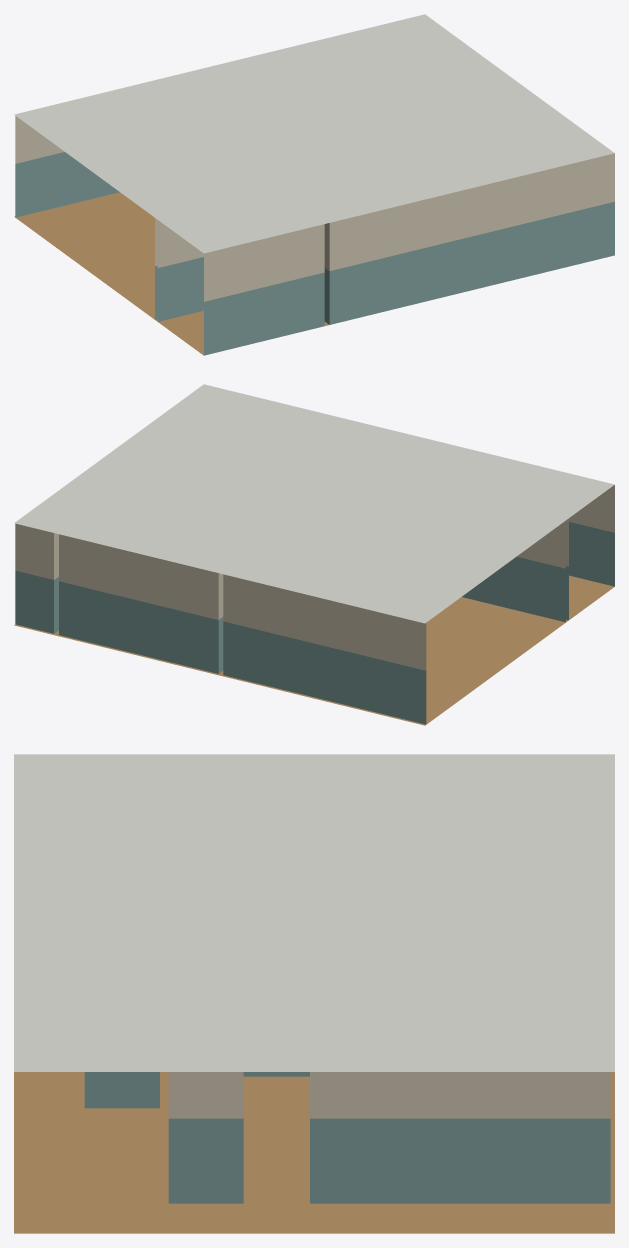
The model's file is chunk_1_4.glb.
The picture shows the model from 3 angles, top to bottom: view 1: azimuth 30°, elevation 25°; view 2: azimuth 150°, elevation 25°; view 3: azimuth 270°, elevation 25°; orthographic projection. The views are drawn at different scales.
Parts seen in each view (by area): view 1: chunk_1_4; view 2: chunk_1_4; view 3: chunk_1_4.
Part boxes in pixels (x1,y1,x2,y2): chunk_1_4: [14, 14, 614, 355]; chunk_1_4: [14, 384, 614, 725]; chunk_1_4: [14, 754, 614, 1233].
Size of the model in its own units: 12 by 2.85 by 9.6.
